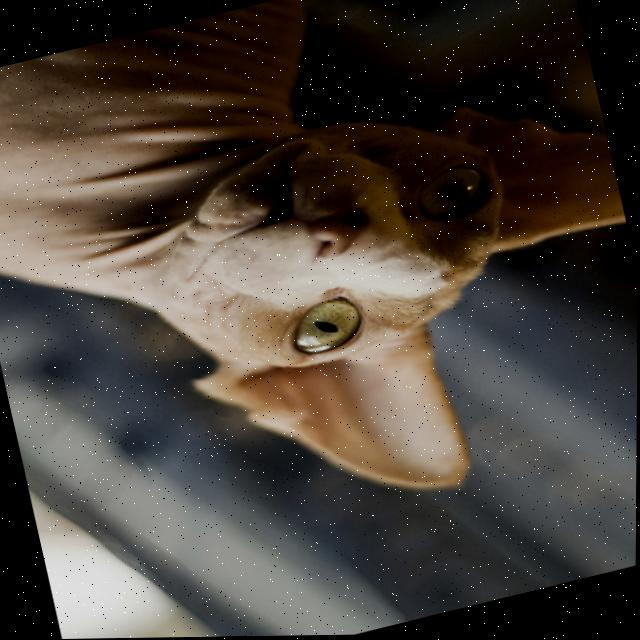Sphynx: (0, 0, 640, 591)
